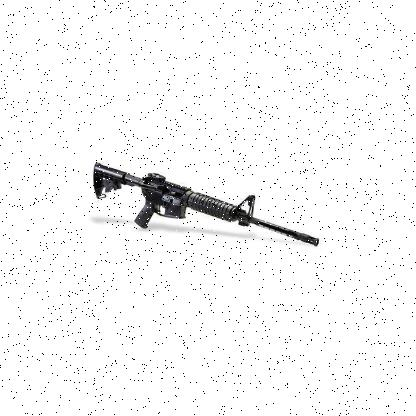gun: (90, 160, 324, 245)
